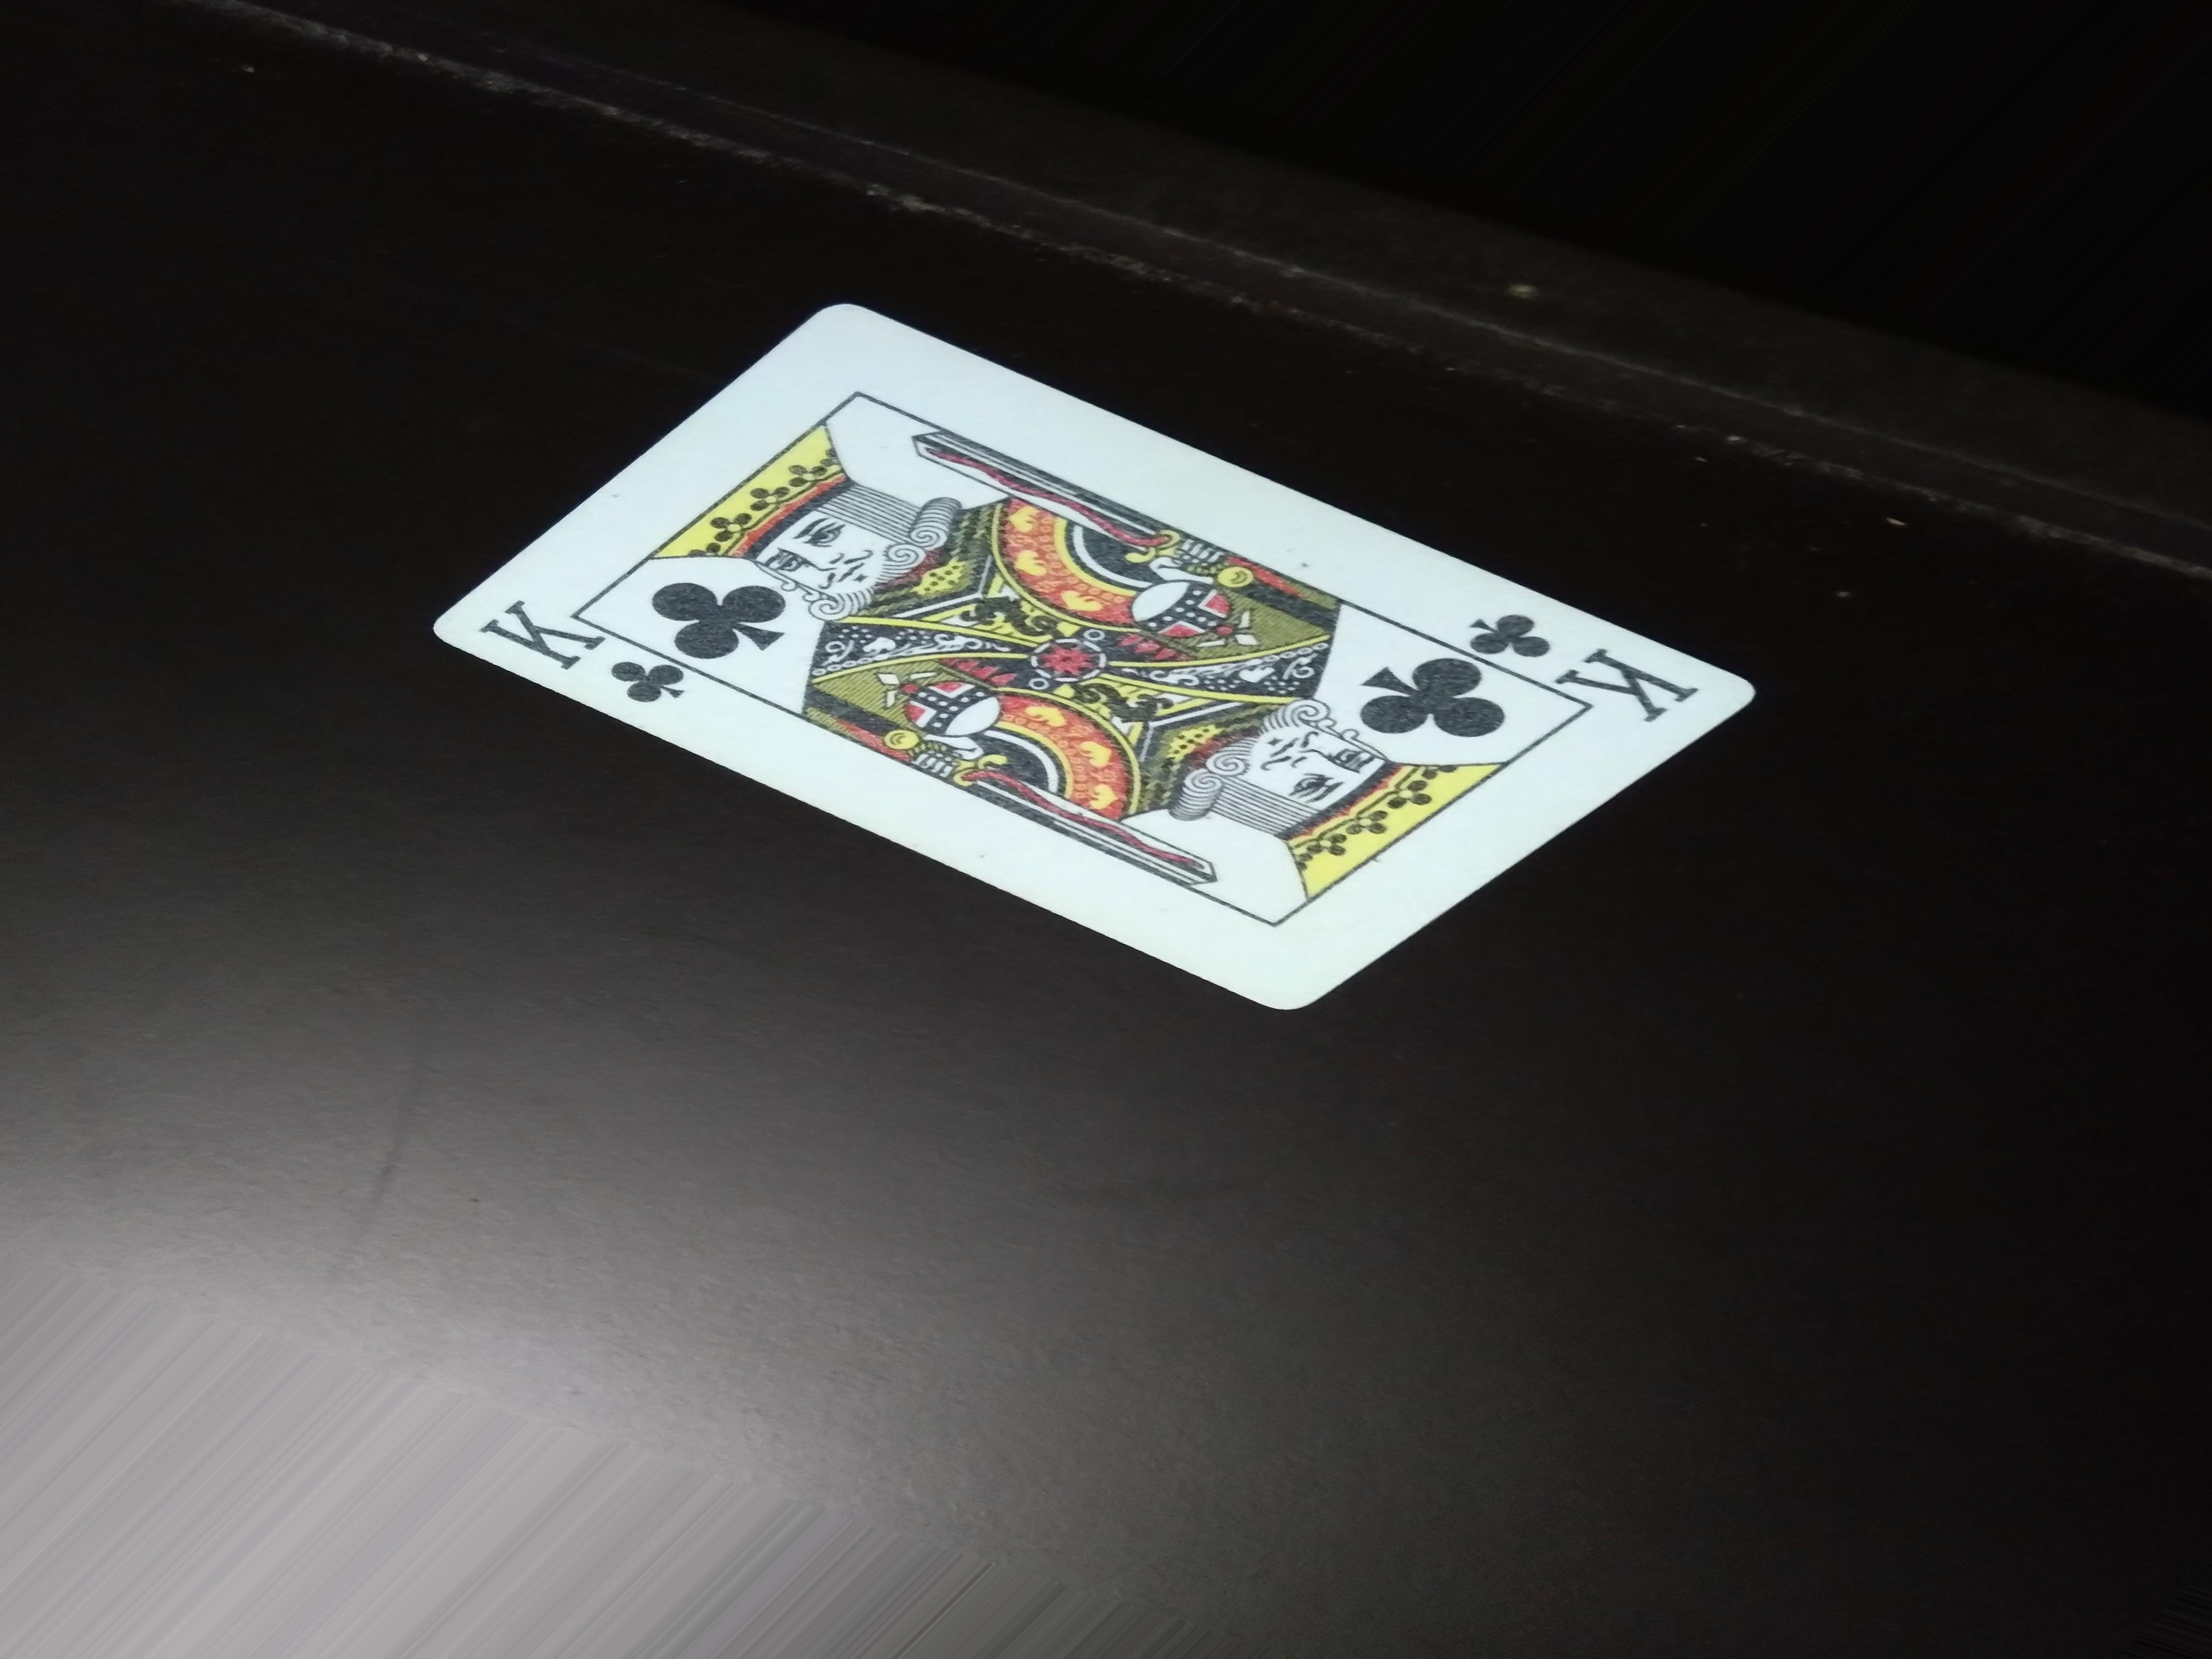KC: (1465, 608, 1703, 728)
